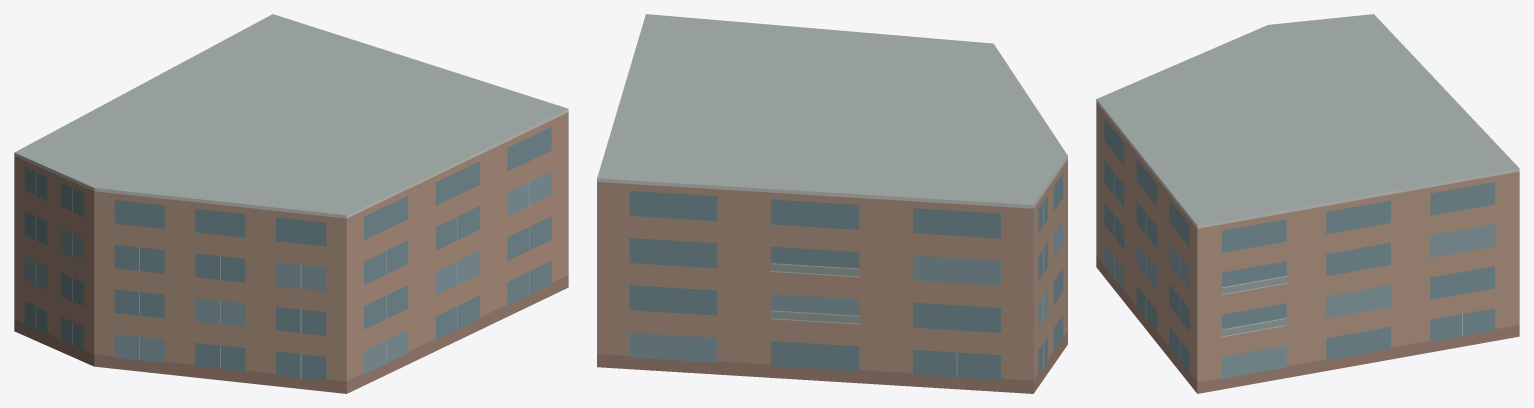
File: survey-upis-33017701.glb
3 views of the same model, side by side, from view 1: azimuth 30°, elevation 25°; view 2: azimuth 150°, elevation 25°; view 3: azimuth 270°, elevation 25° (orthographic). The views are drawn at different scales.
Visible parts, largest first — view 1: survey-upis-33017701.tmp; view 2: survey-upis-33017701.tmp; view 3: survey-upis-33017701.tmp.
Boxes of the visible parts, box(x1,y1,x2,y2) form: survey-upis-33017701.tmp: box(14, 14, 568, 393); survey-upis-33017701.tmp: box(597, 14, 1067, 393); survey-upis-33017701.tmp: box(1096, 14, 1519, 393).
Bounding box in the file's own units: 35.07 × 13 × 29.63.
